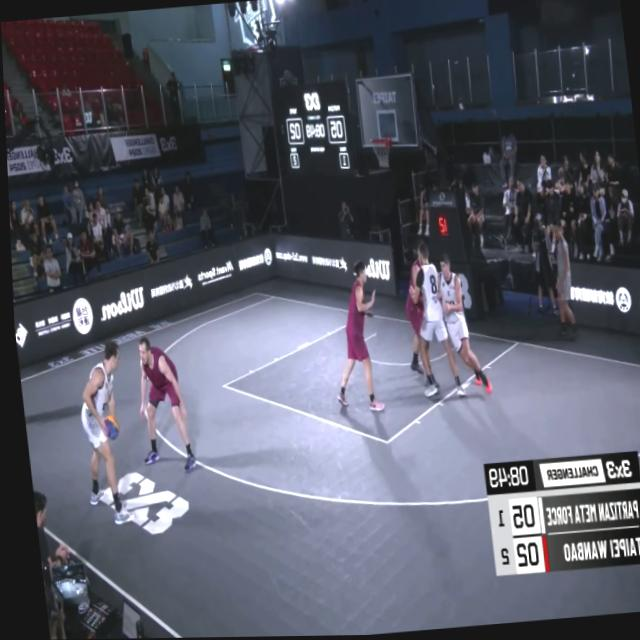ball: (98, 414, 116, 441)
hoop: (367, 136, 392, 170)
player: (70, 344, 133, 525), (320, 261, 384, 416), (402, 241, 459, 400), (130, 335, 192, 475), (430, 252, 489, 398), (390, 240, 446, 391)
